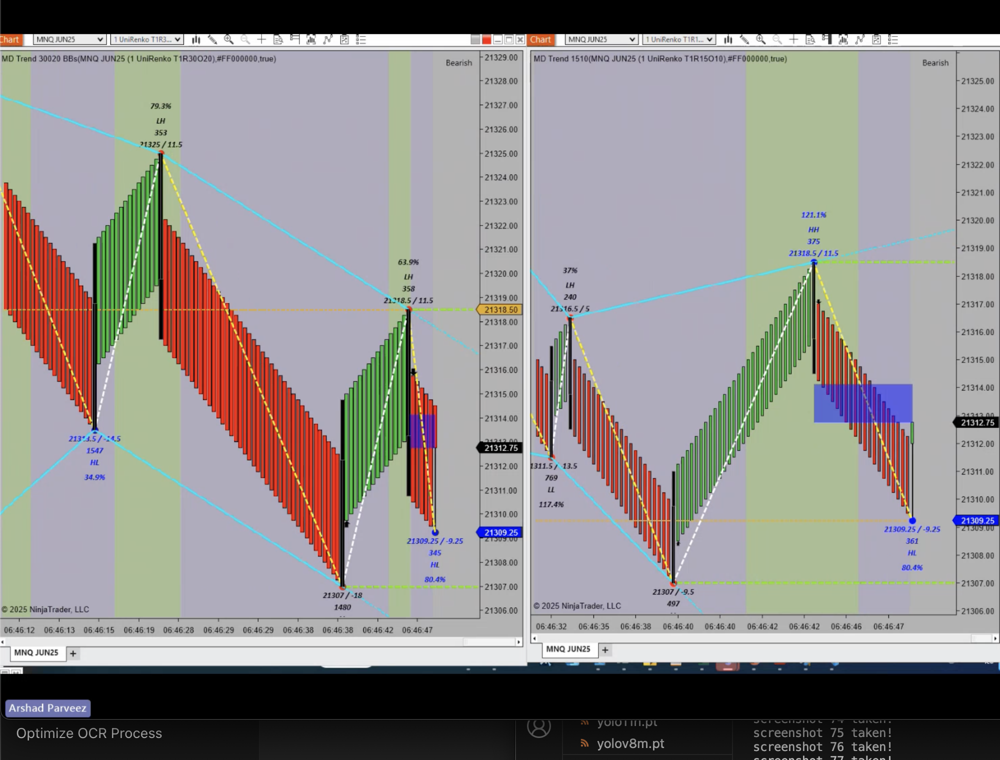HH: (802, 222, 833, 239)
HL: (82, 453, 111, 472), (424, 556, 449, 578), (899, 543, 923, 562)
LH: (144, 112, 174, 129), (396, 267, 423, 284), (559, 276, 583, 295)
LL: (543, 478, 566, 502)
